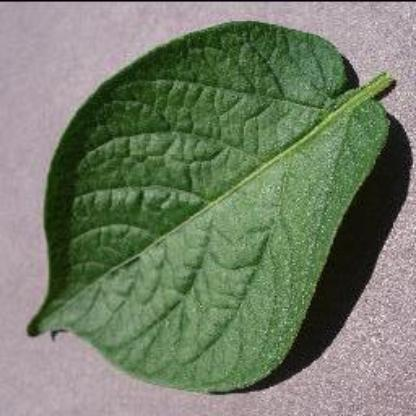Healthy-plant: (27, 19, 390, 396)
